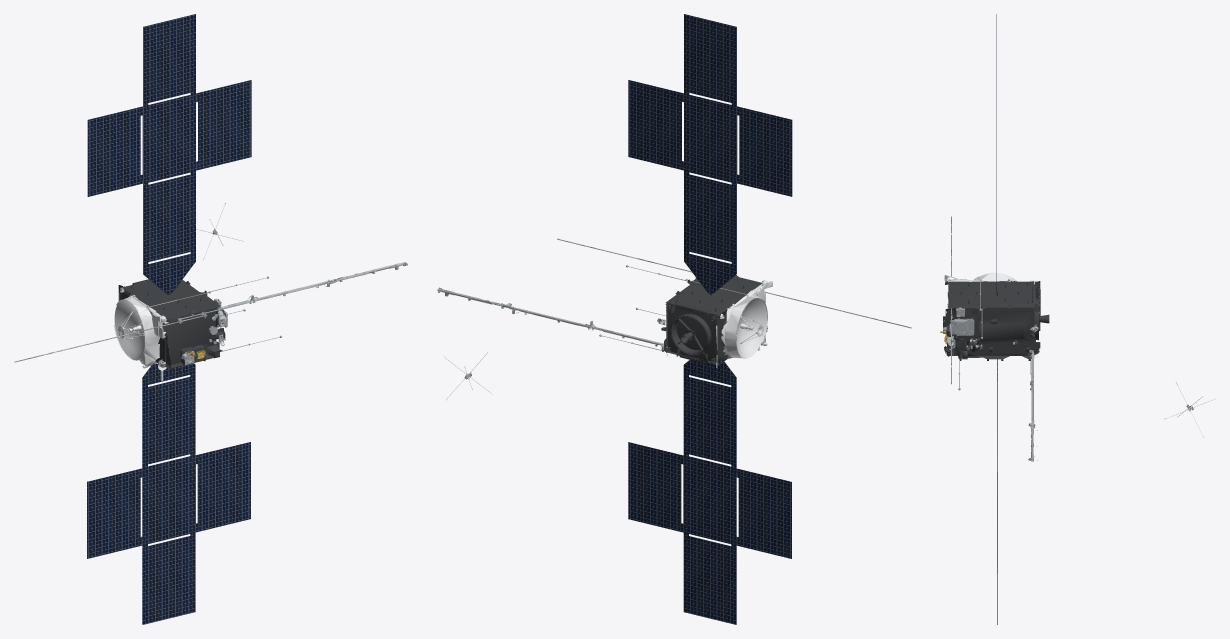
File: juice.glb
3 views of the same model, side by side, from view 1: azimuth 30°, elevation 25°; view 2: azimuth 150°, elevation 25°; view 3: azimuth 270°, elevation 25° (orthographic). The views are drawn at different scales.
Parts seen in each view (by area): view 1: JUICE sapy, JUICE samy, JUICE bus, JUICE mag; view 2: JUICE sapy, JUICE samy, JUICE bus, JUICE mag; view 3: JUICE bus, JUICE majis, JUICE mag.
Boxes of the visible parts, x1,y1,x2,y2 form: JUICE sapy: (87, 14, 251, 294); JUICE samy: (87, 363, 250, 624); JUICE bus: (114, 279, 225, 370); JUICE mag: (221, 262, 407, 308); JUICE sapy: (628, 14, 792, 294); JUICE samy: (628, 360, 791, 624); JUICE bus: (661, 275, 772, 367); JUICE mag: (437, 287, 669, 355); JUICE bus: (943, 272, 1049, 360); JUICE majis: (950, 318, 974, 335); JUICE mag: (1028, 349, 1037, 461).
Bounding box in the file's own units: 75.67 × 100 × 42.65.
5 materials, 1 textured.
